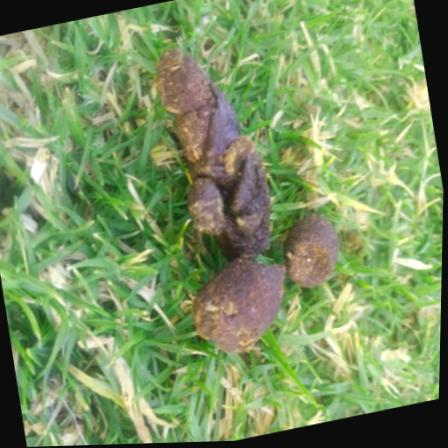dog-poop: (133, 56, 364, 360)
